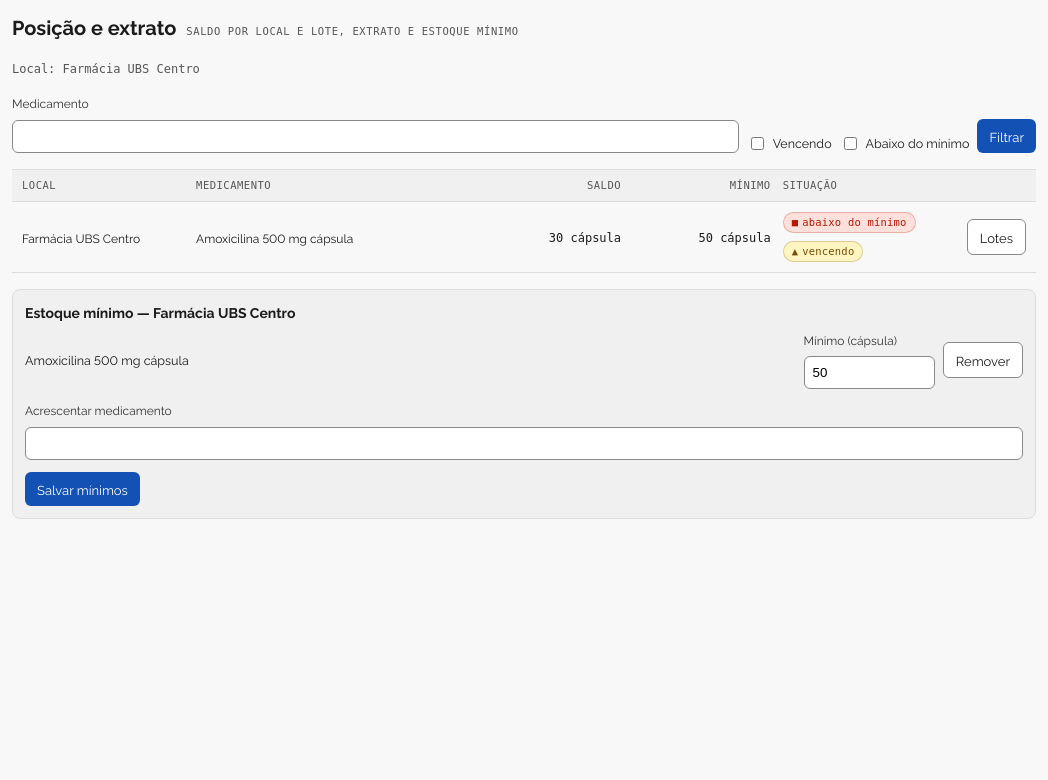
PharmacyStock › lote vencido pela marca `expired` do api: etiqueta "vencido" só nele
Step 1. Click the button with aria-label "Lotes de Amoxicilina 500 mg cápsula" → (996, 237), box 967,219 -> 1026,255
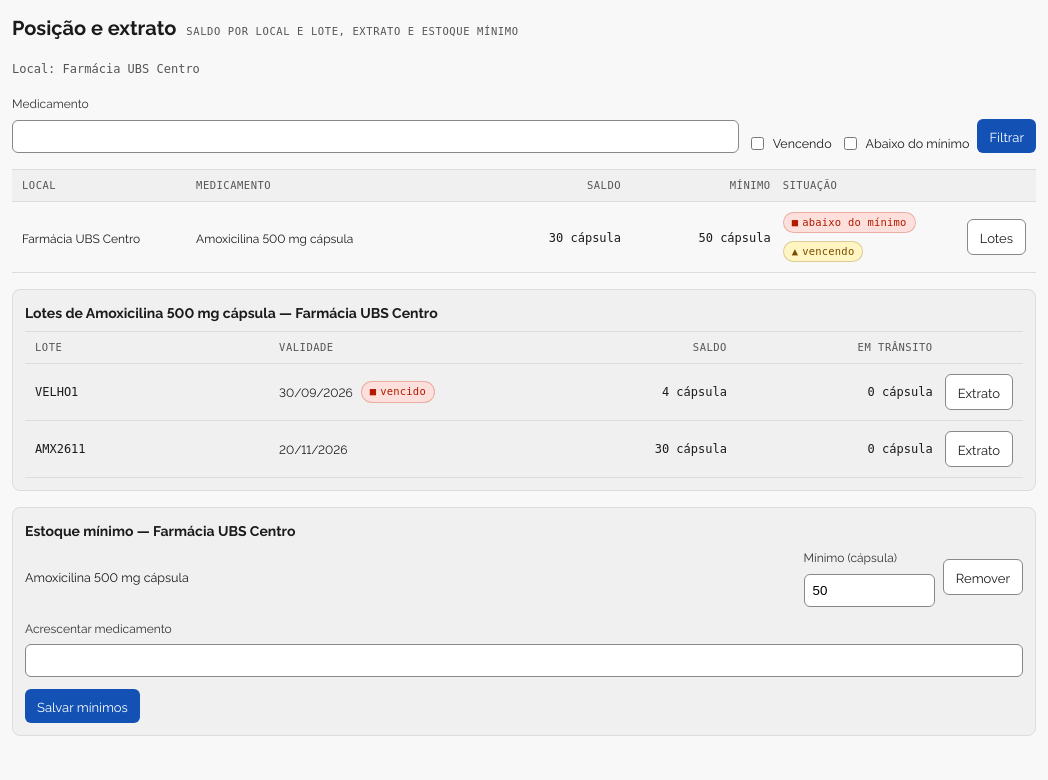
expect the text "vencido" is shown: met, box 361,381 -> 435,402
